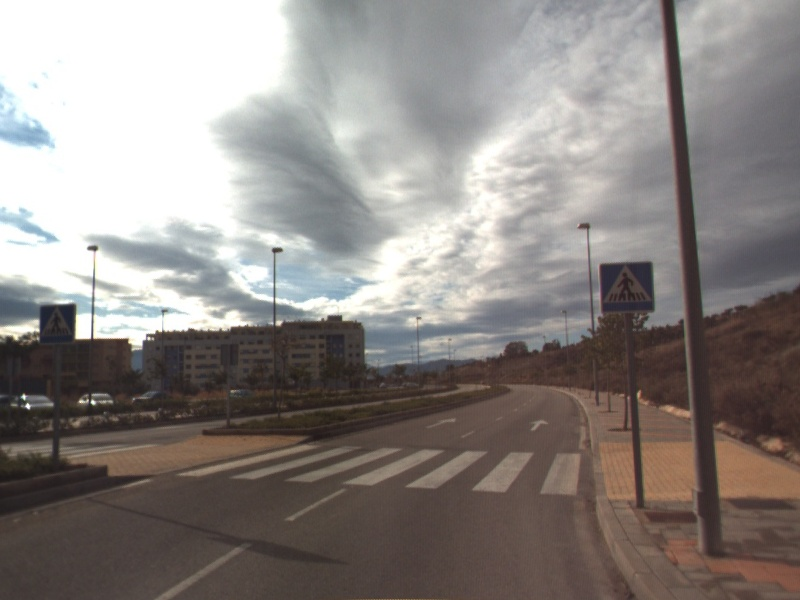STRAIGHT: (424, 415, 458, 430), (527, 417, 551, 433)
